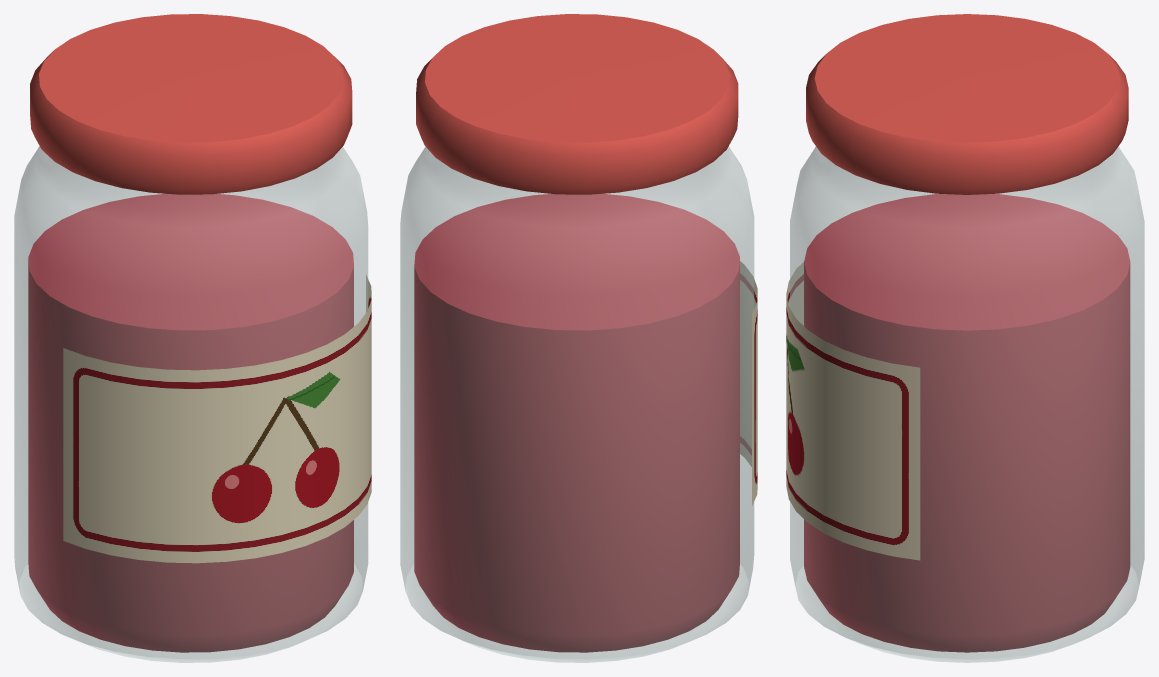
The model's file is jar_jam.glb.
3 renders of one model, left to right at view 1: azimuth 30°, elevation 25°; view 2: azimuth 150°, elevation 25°; view 3: azimuth 270°, elevation 25°, orthographic.
Parts seen in each view (by area): view 1: jar_jam; view 2: jar_jam; view 3: jar_jam.
Boxes of the visible parts, x1,y1,x2,y2 form: jar_jam: (14, 14, 371, 662); jar_jam: (400, 14, 757, 662); jar_jam: (786, 14, 1144, 662).
Bounding box in the file's own units: 0.2 × 0.326 × 0.202.
Materials: 4 (1 with a texture image).
